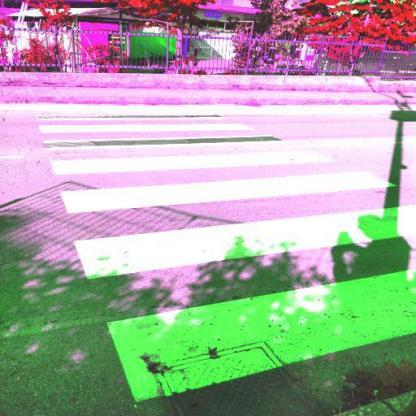crosswalk: (41, 148, 404, 218), (27, 103, 235, 124)
